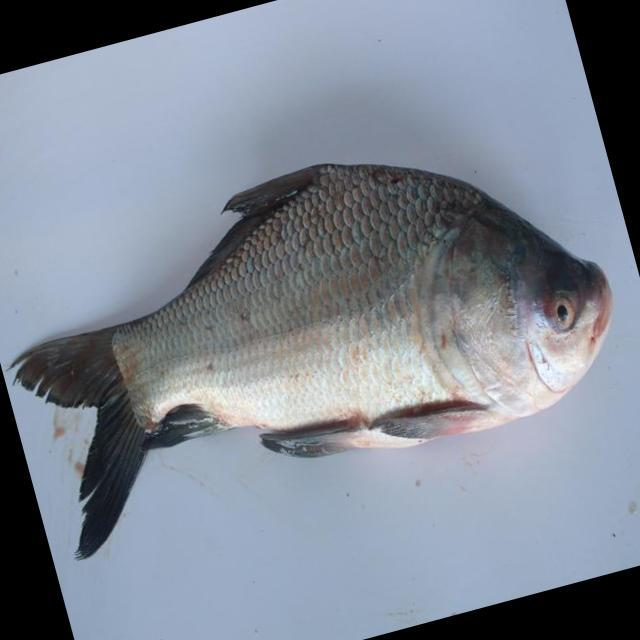Catla: (7, 156, 616, 562)
